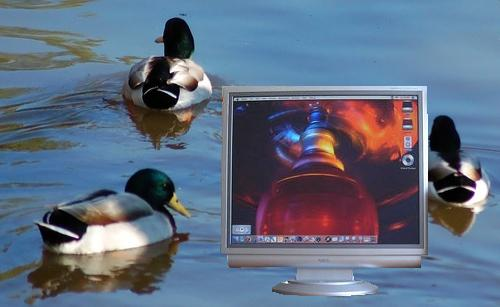tampered: (221, 87, 428, 296)
